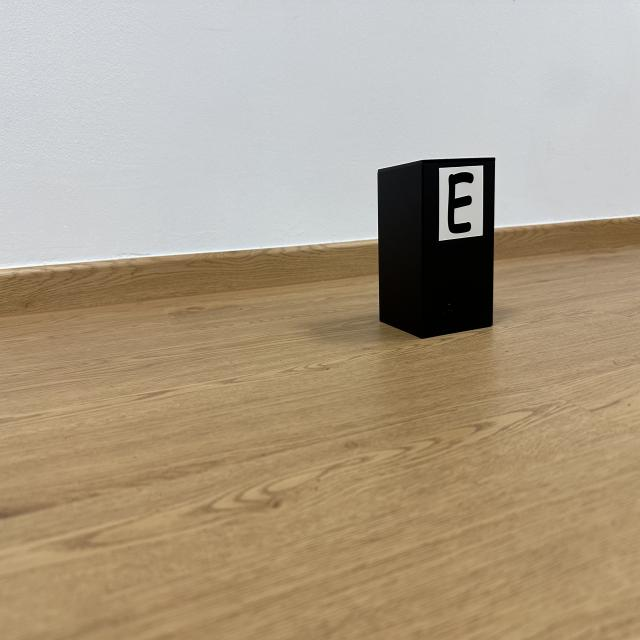E: (448, 172, 474, 233)
